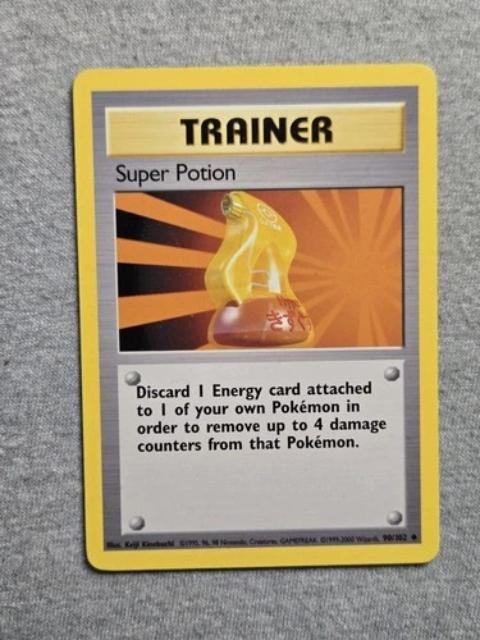Card: (67, 55, 443, 575)
Name: (105, 152, 237, 186)
